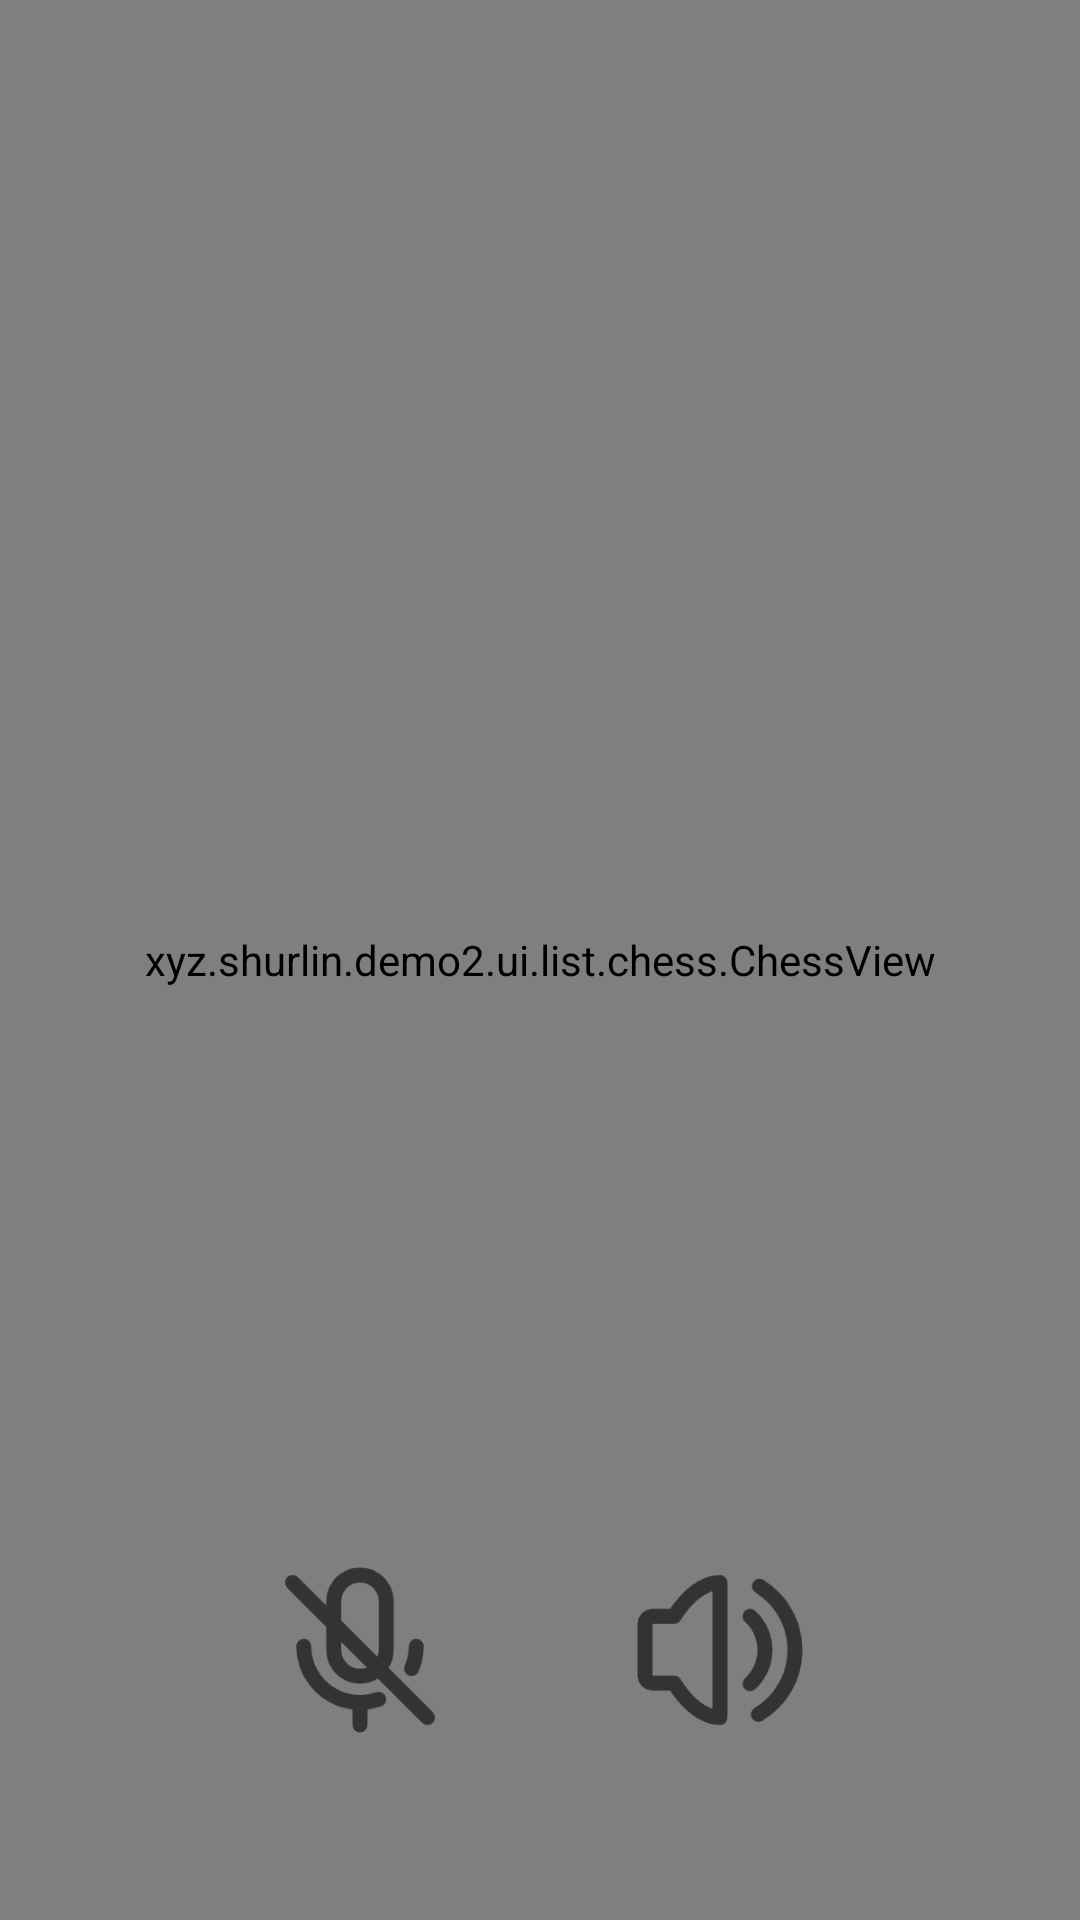

Point at icon controls on the screen. Image size 1080x1920, points as (x,y).
voice off: (360,1650)
volume on: (720,1650)
